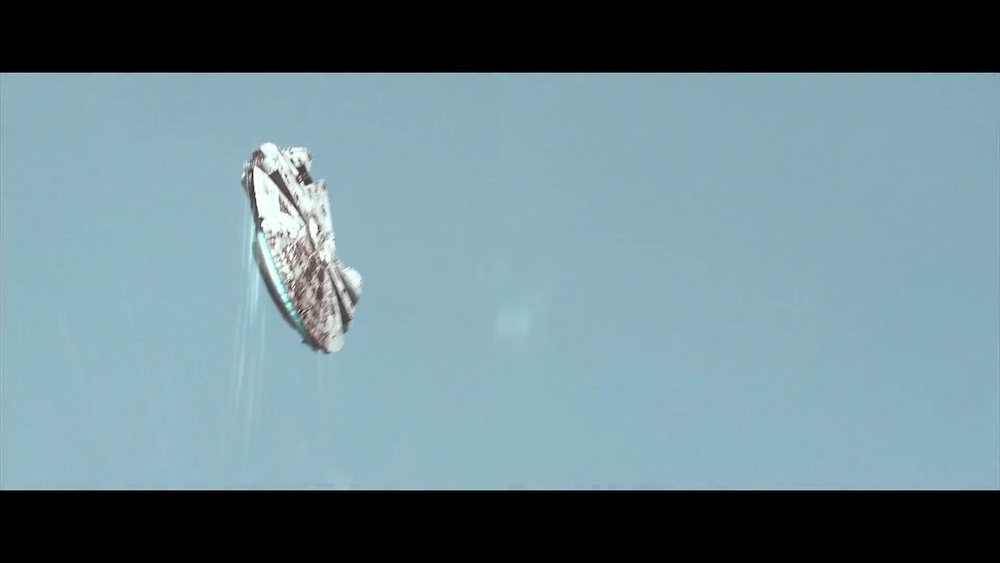Millennium Falcon: (240, 142, 365, 358)
